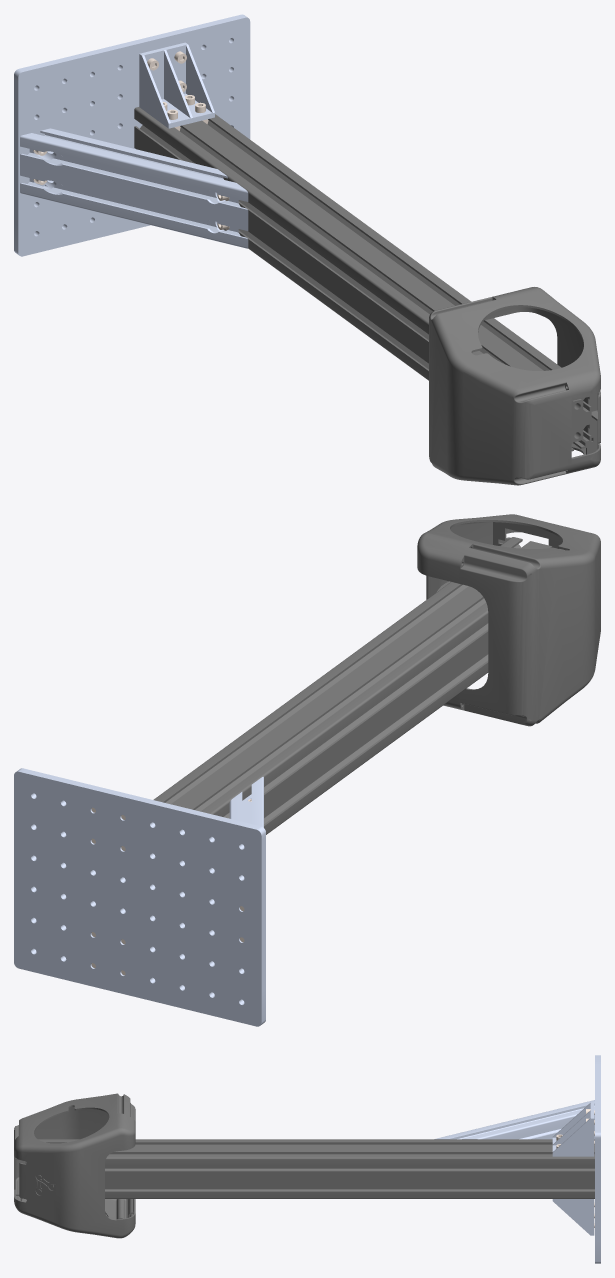
The model's file is body_link0.dae.
The picture shows the model from 3 angles, top to bottom: view 1: azimuth 30°, elevation 25°; view 2: azimuth 150°, elevation 25°; view 3: azimuth 270°, elevation 25°; orthographic projection. The views are drawn at different scales.
Parts seen in each view (by area): view 1: node19, node39, node38, node18, node16; view 2: node38, node19, node39, node18; view 3: node19, node39, node18, node16, node38, node17.
Part boxes in pixels (x1,y1,x2,y2): node19: (134,107,591,451); node39: (429,287,600,485); node38: (14,14,250,256); node18: (20,128,248,248); node16: (139,42,214,128); node38: (14,768,265,1026); node19: (153,537,564,834); node39: (417,514,600,726); node18: (229,776,263,827); node19: (25,1139,594,1198); node39: (14,1093,135,1238); node18: (434,1100,594,1139); node16: (552,1102,594,1156); node38: (595,1055,600,1263); node17: (552,1199,594,1235).
Bounding box in the file's own units: 0.25 × 0.19 × 0.773.
